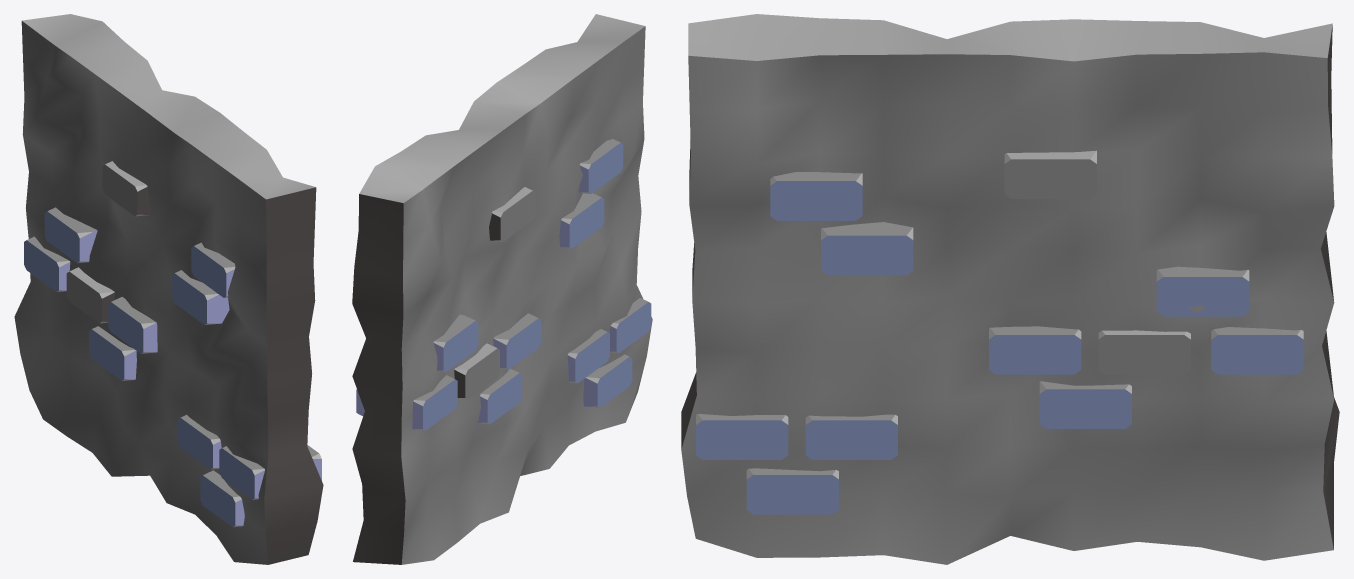
The model's file is stonewall1.FBX.
The picture shows the model from 3 angles, left to right: view 1: azimuth 30°, elevation 25°; view 2: azimuth 150°, elevation 25°; view 3: azimuth 270°, elevation 25°; orthographic projection. The views are drawn at different scales.
Parts seen in each view (by area): view 1: Box014; view 2: Box014; view 3: Box014.
Boxes of the visible parts, box(x1,y1,x2,y2) form: Box014: box(14, 14, 323, 564); Box014: box(352, 14, 652, 564); Box014: box(681, 14, 1339, 564).
Bounding box in the file's own units: 29.93 × 148 × 173.
